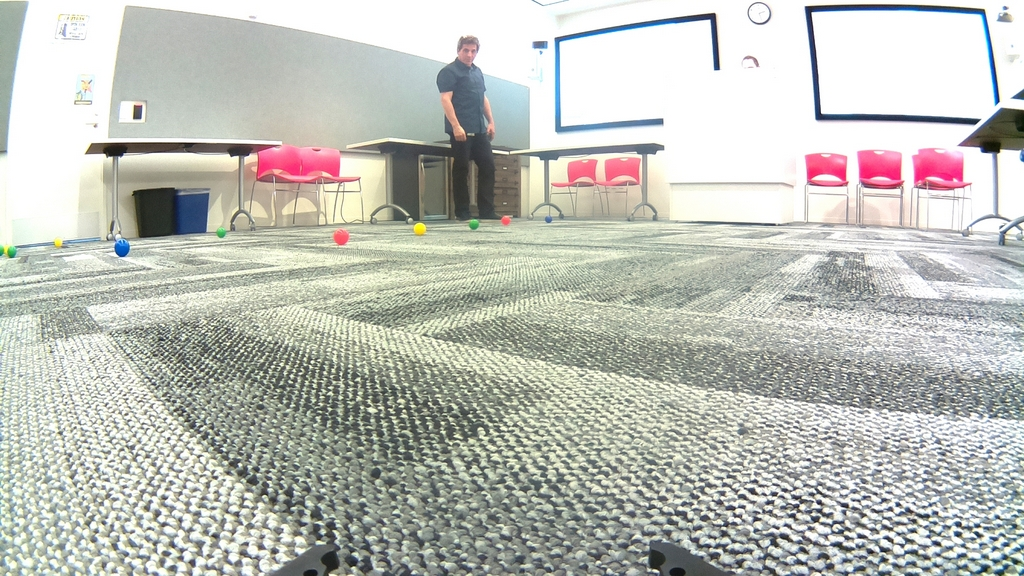ball: (217, 230, 224, 238)
